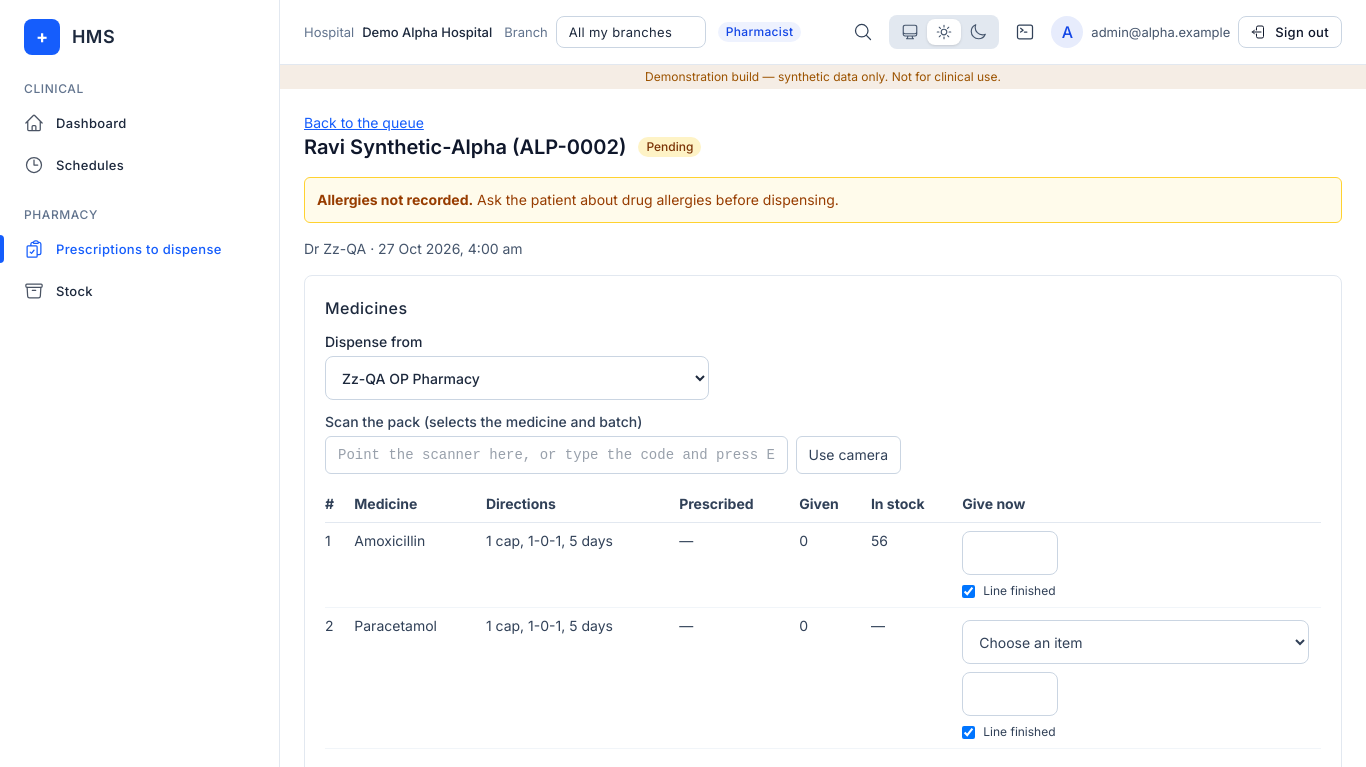
Test case: Pharmacy dispensing › dispenses part of a line with an idempotency key and never sends a tenant id
Expected: the dropdown with test id "dispense-store" shows "Zz-QA OP Pharmacy", [325,356,709,400]
In the field named "Quantity for line 1": (1010, 553) [962,531,1058,575], type "10"
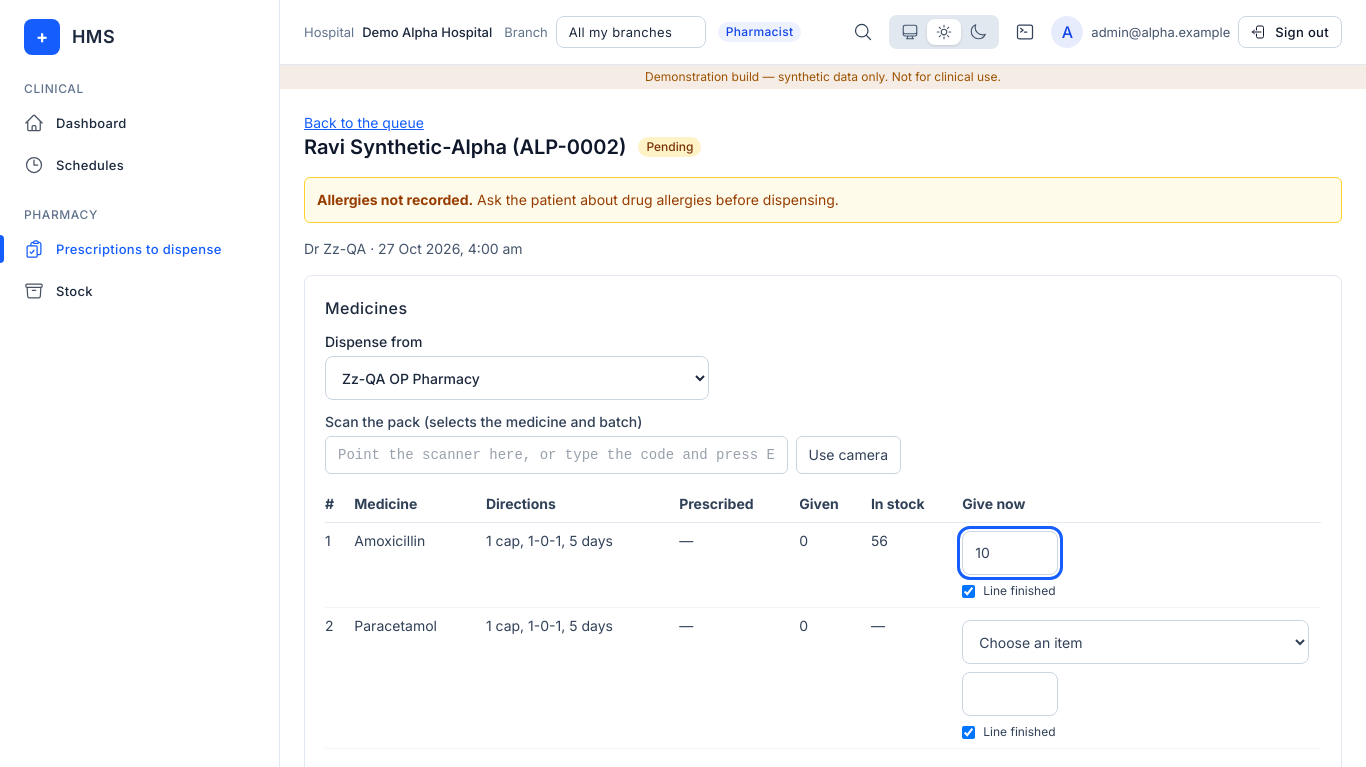
Click the checkbox with test id "rx-line-complete" below "56": click(969, 591) [962,584,975,598]
(page scrolled)
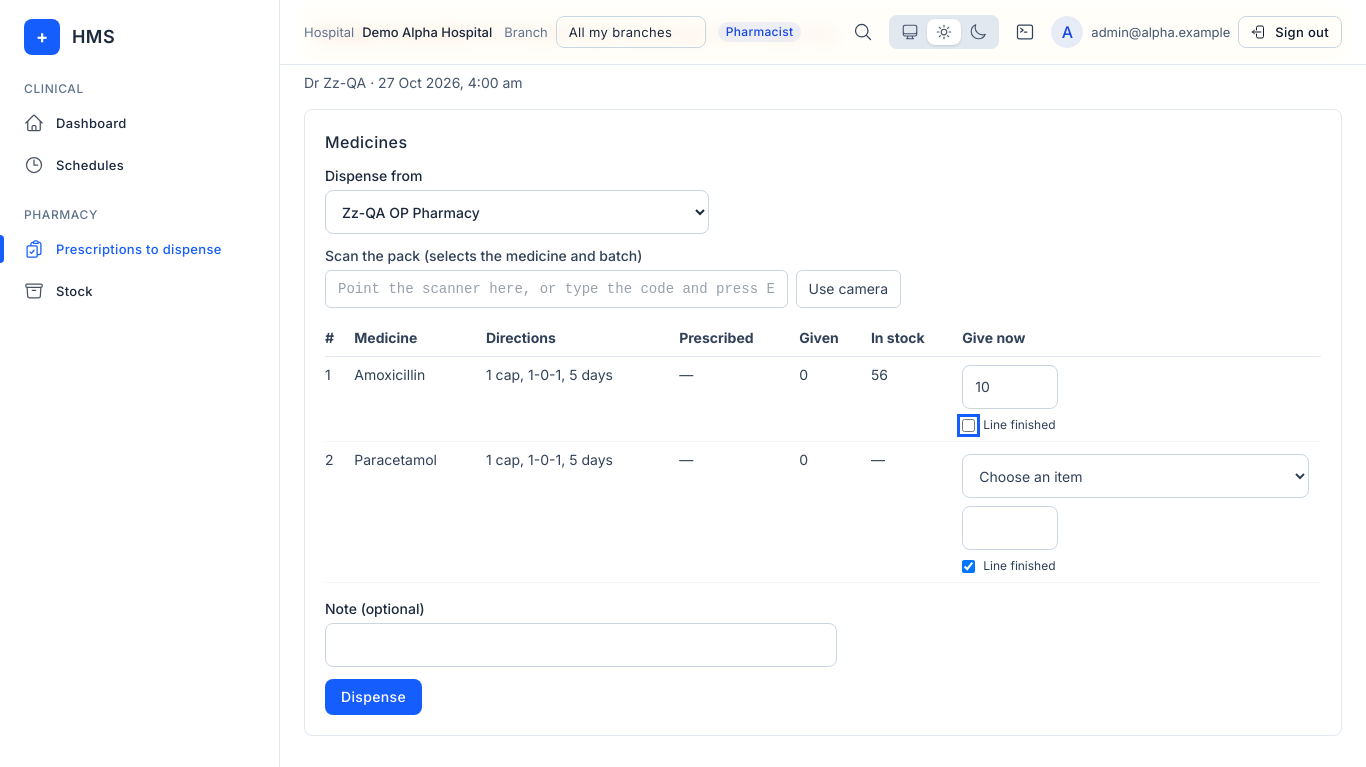
Click the button with test id "dispense-submit": click(374, 697) [325,679,422,715]
(page scrolled)
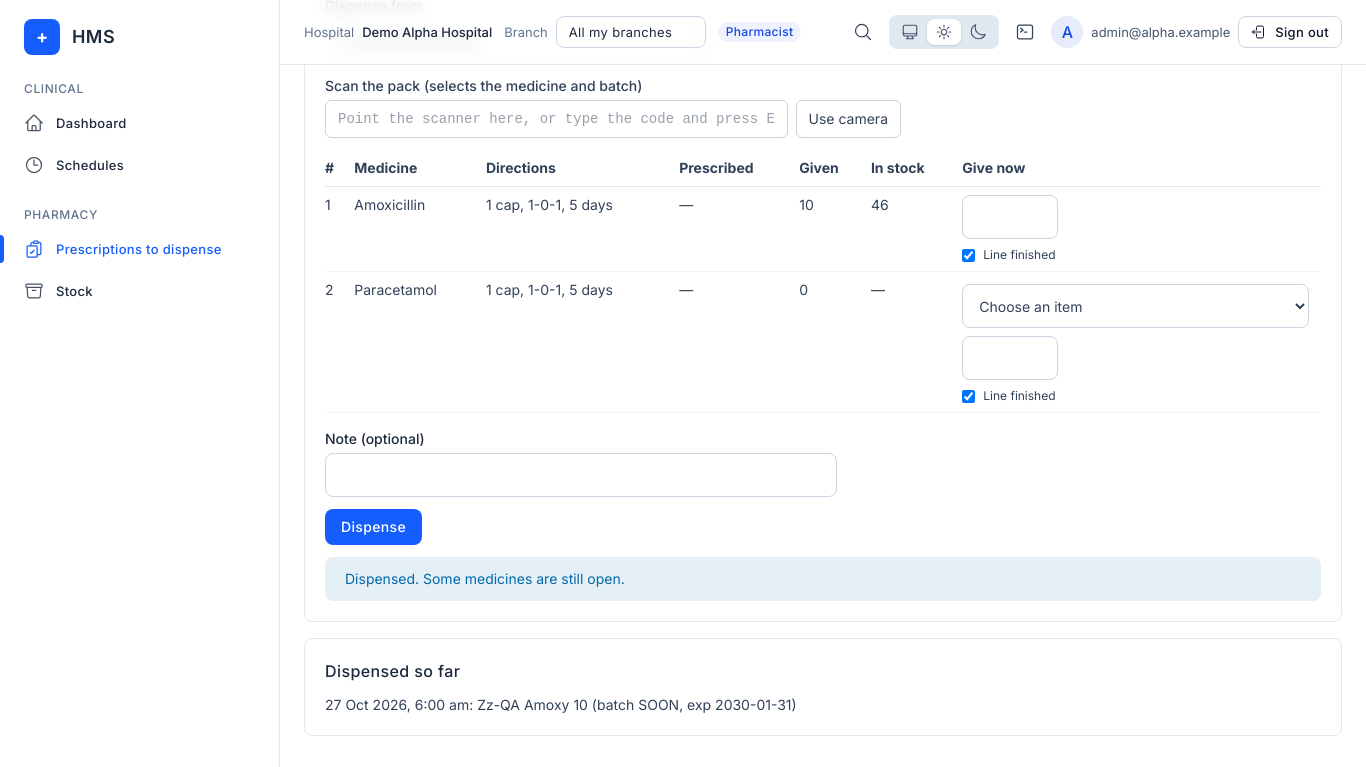
Expected: the text "Dispensed. Some medicines are still open." is shown, [325,557,1321,601]
Expected: the list with test id "rx-dispenses" shows "batch SOON", [477,696,797,713]
